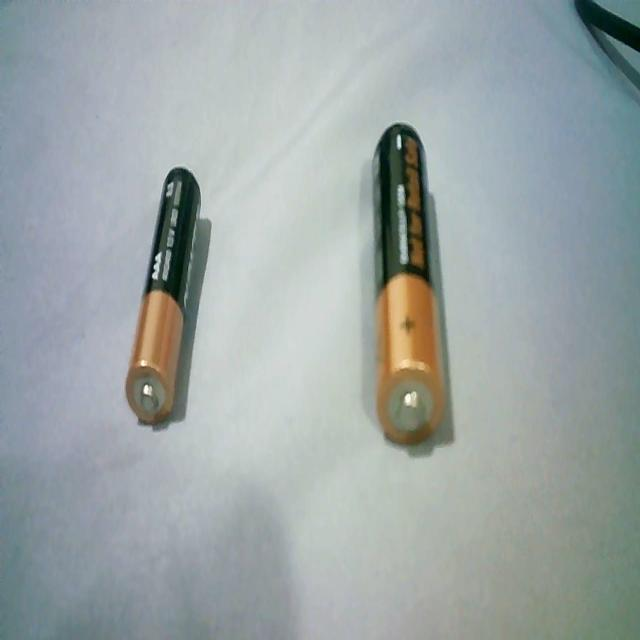AA: (363, 114, 452, 450)
AAA: (122, 156, 208, 430)
